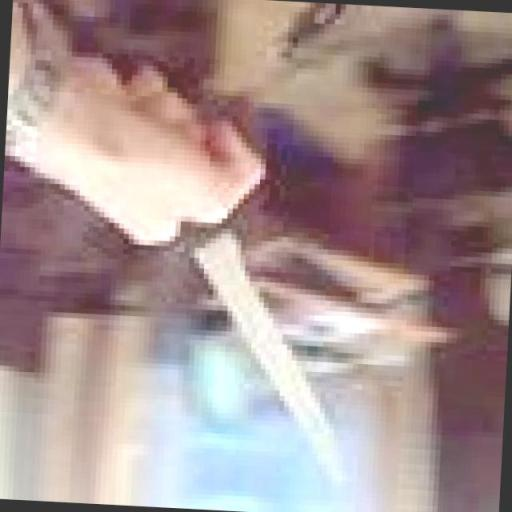knife: (64, 52, 378, 512)
